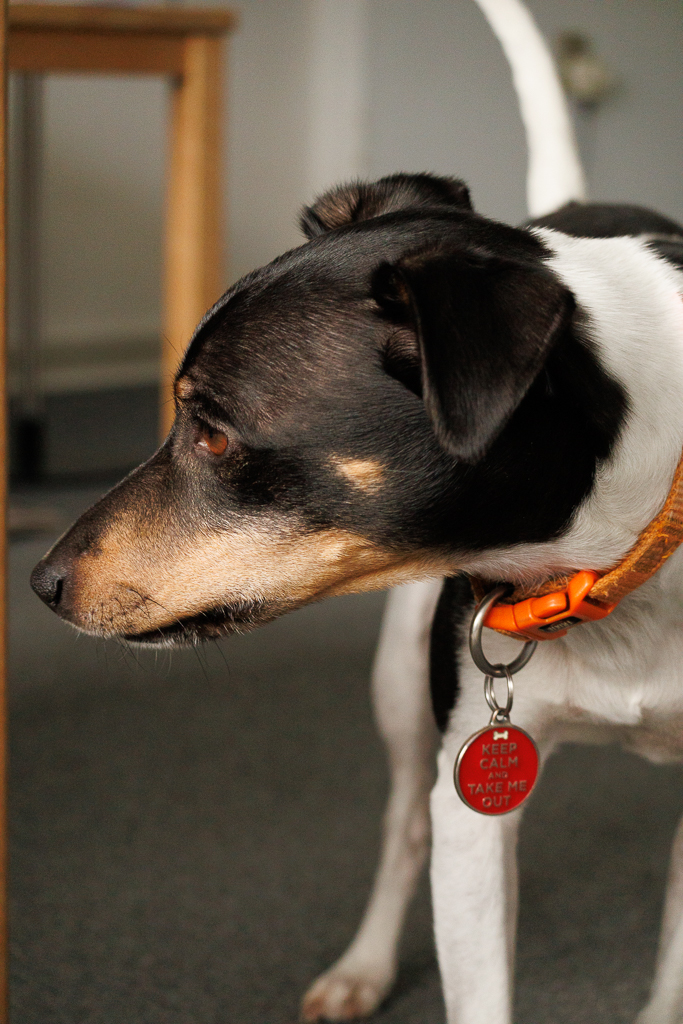Dog: (23, 0, 683, 1024)
